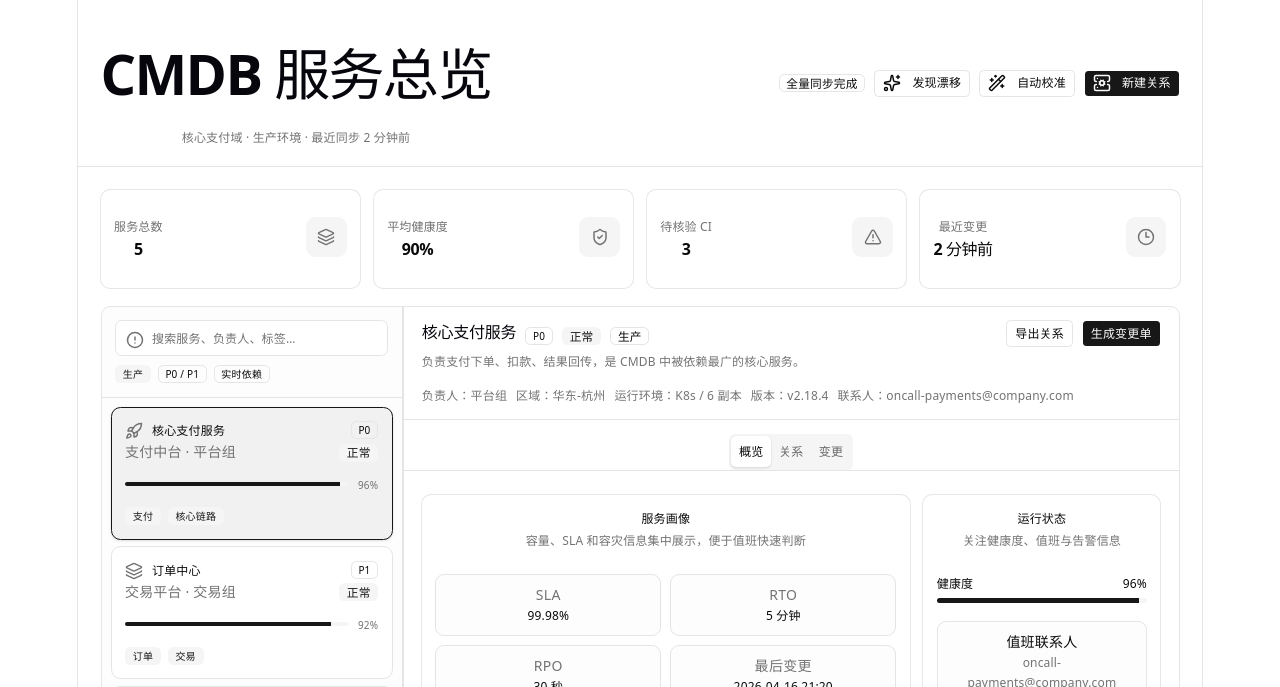
Test: CMDBServicePage › switches the selected service from the list
The image size is (1280, 687).
Click the button "订单中心 交易平台 · 交易组 P1 正常 92% 订单 交易": (176, 570) [110,546,393,679]
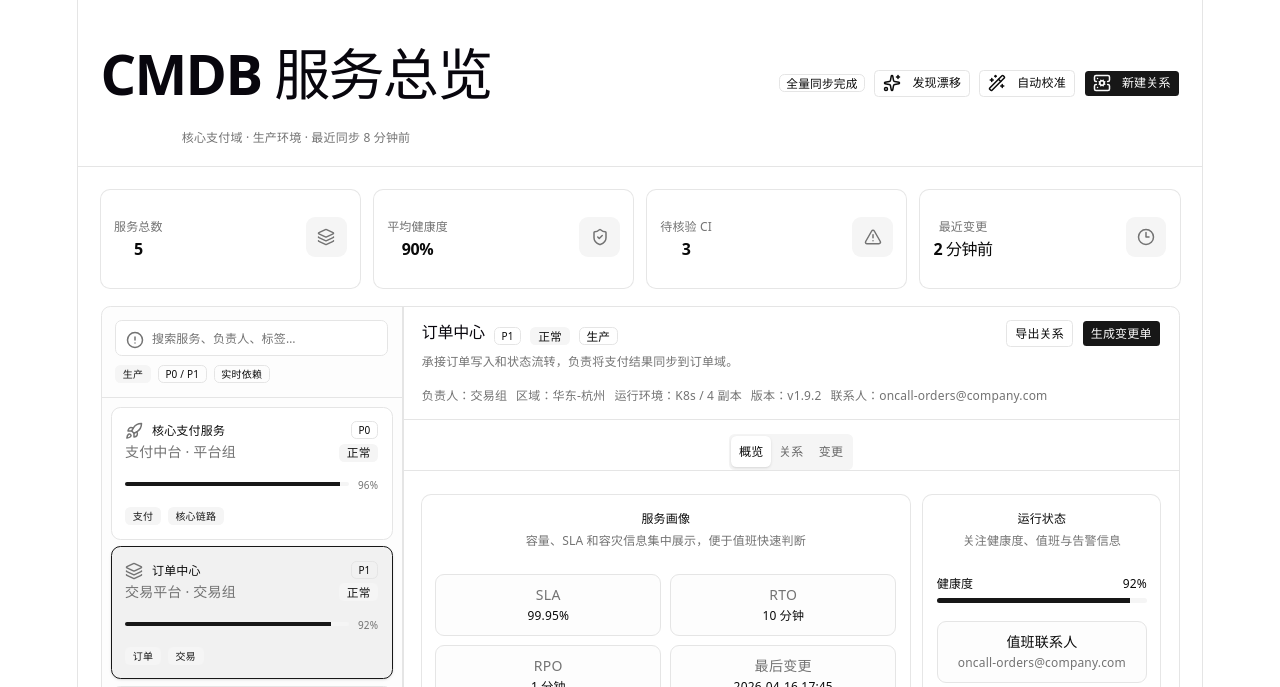
Expected: the text "承接订单写入和状态流转，负责将支付结果同步到订单域。" is shown, [422,352,738,372]
Expected: the heading "订单中心" is shown, [422,320,485,344]
